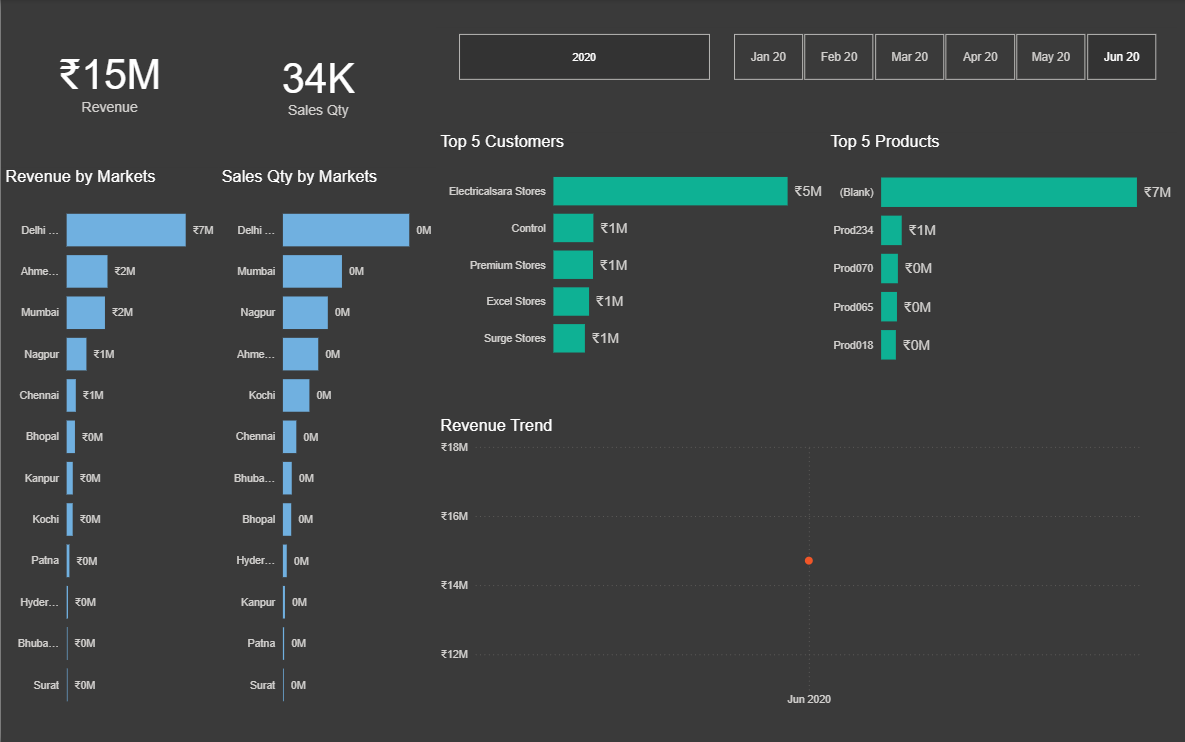

The dashboard page shown, as its layout file describes it:
{"tool":"powerbi","page":{"name":"Key Insights","canvas":[1350,850],"ordinal":0},"visuals":[{"type":"card","fields":{"Values":["BaseMeasures (2).Revenue"]},"box":[0,0,247.9,184.6],"z":0},{"type":"card","fields":{"Values":["BaseMeasures (2).Sales Qty"]},"box":[247.9,0,227.9,193.1],"z":1000},{"type":"barChart","title":"Revenue by Markets","fields":{"Y":["BaseMeasures (2).Revenue"],"Category":["sales markets.markets_name"]},"box":[0,192.5,247.5,632.5],"z":2000},{"type":"barChart","title":"Sales Qty by Markets","fields":{"Y":["BaseMeasures (2).Sales Qty"],"Category":["sales markets.markets_name"]},"box":[246,192.5,248.9,632.5],"z":3000},{"type":"slicer","fields":{"Values":["sales date.year"]},"box":[495,33.3,335.8,66.6],"z":4000},{"type":"slicer","fields":{"Values":["sales date.cy_date"]},"box":[809,33.3,531.1,66.6],"z":5000},{"type":"barChart","title":"Top 5 Customers","fields":{"Y":["BaseMeasures (2).Revenue"],"Category":["sales customers.custmer_name"]},"box":[495,152,445.8,273.5],"z":6000},{"type":"barChart","title":"Top 5 Products","fields":{"Y":["BaseMeasures (2).Revenue"],"Category":["sales products.product_code"]},"box":[940.7,152,399.4,282.2],"z":7000},{"type":"lineChart","title":"Revenue Trend","fields":{"Y":["BaseMeasures (2).Revenue"],"Category":["sales date.cy_date"]},"box":[495,476.1,809,338.7],"z":8000}]}

Visuals, with their boxes in screenshot pixels (x1, y1, x2, y2), scaled from the page's 1350x850 canvas onto the 1185x742 screenshot:
card - BaseMeasures (2).Revenue: bbox=[0, 0, 218, 161]
card - BaseMeasures (2).Sales Qty: bbox=[218, 0, 418, 169]
"Revenue by Markets" barChart: bbox=[0, 168, 217, 720]
"Sales Qty by Markets" barChart: bbox=[216, 168, 434, 720]
slicer - sales date.year: bbox=[434, 29, 729, 87]
slicer - sales date.cy_date: bbox=[710, 29, 1176, 87]
"Top 5 Customers" barChart: bbox=[434, 133, 826, 371]
"Top 5 Products" barChart: bbox=[826, 133, 1176, 379]
"Revenue Trend" lineChart: bbox=[434, 416, 1145, 711]
